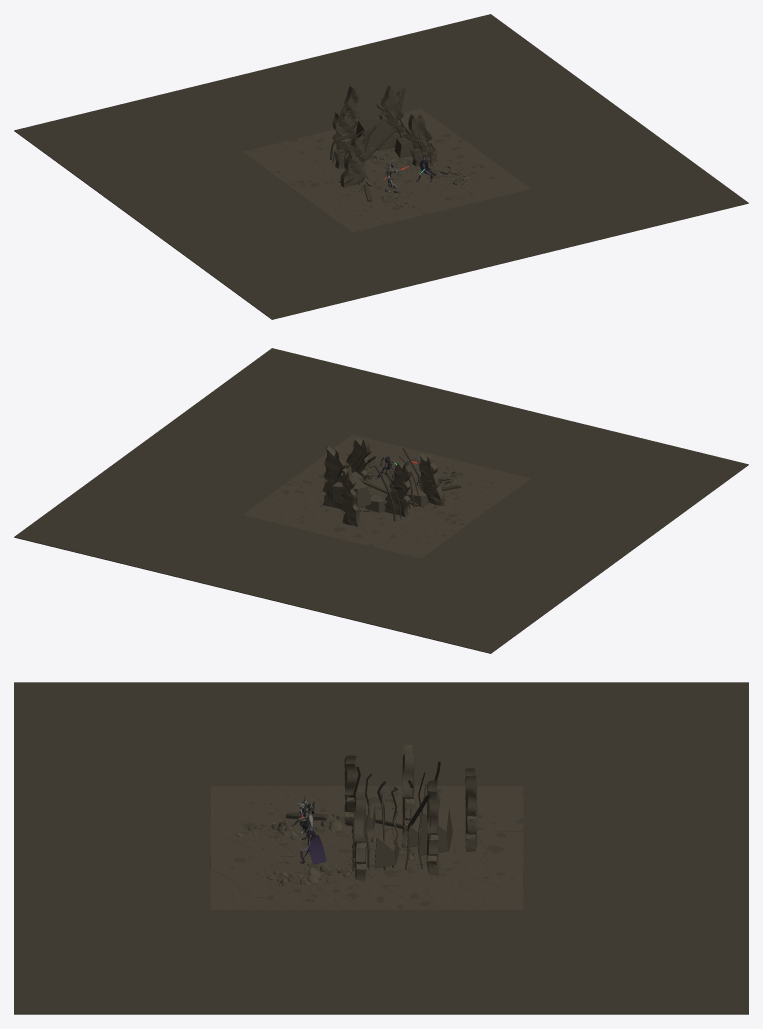
The model's file is duel_atmosphere.glb.
The picture shows the model from 3 angles, top to bottom: view 1: azimuth 30°, elevation 25°; view 2: azimuth 150°, elevation 25°; view 3: azimuth 270°, elevation 25°; orthographic projection. The views are drawn at different scales.
Parts seen in each view (by area): view 1: Settled powdered masonry • combined ruins, Pitted cold brown ancient stone • combined ruins, Black weathered alien metal • combined ruins; view 2: Settled powdered masonry • combined ruins, Pitted cold brown ancient stone • combined ruins, Black weathered alien metal • combined ruins; view 3: Settled powdered masonry • combined ruins, Pitted cold brown ancient stone • combined ruins, Black weathered alien metal • combined ruins.
Part boxes in pixels (<box>): Settled powdered masonry • combined ruins: <box>14,14,748,319</box>; Pitted cold brown ancient stone • combined ruins: <box>243,85,530,232</box>; Black weathered alien metal • combined ruins: <box>330,87,431,201</box>; Settled powdered masonry • combined ruins: <box>14,348,748,653</box>; Pitted cold brown ancient stone • combined ruins: <box>242,435,530,558</box>; Black weathered alien metal • combined ruins: <box>324,446,460,521</box>; Settled powdered masonry • combined ruins: <box>14,682,748,1014</box>; Pitted cold brown ancient stone • combined ruins: <box>210,744,523,909</box>; Black weathered alien metal • combined ruins: <box>285,761,475,871</box>.
Size of the model in its own units: 80 by 10.17 by 75.
18 materials, 2 textured.
